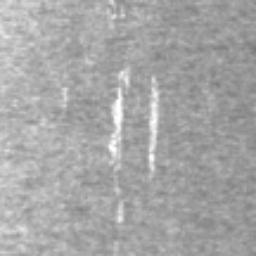White rust: (108, 88, 125, 172), (148, 88, 159, 172), (117, 68, 130, 90), (115, 199, 123, 223), (60, 86, 68, 104)
